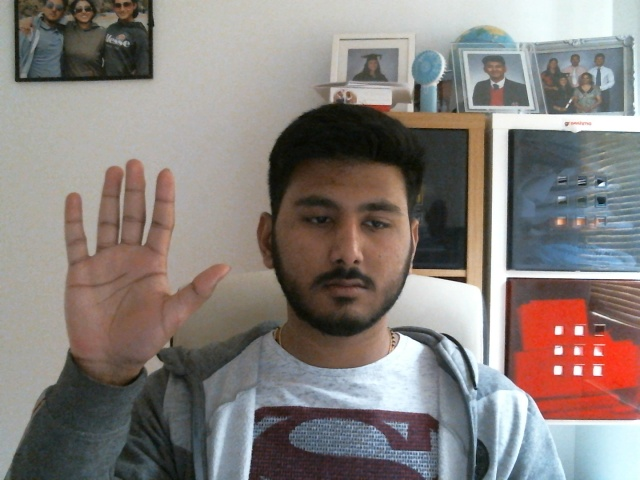hello: (66, 158, 229, 359)
